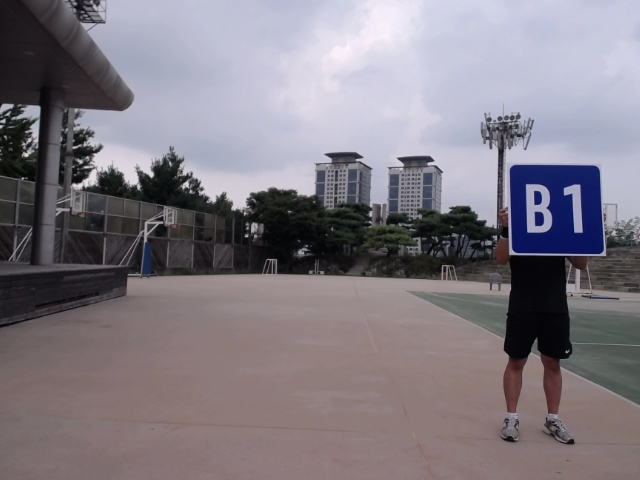delivery_b1: (508, 162, 606, 256)
